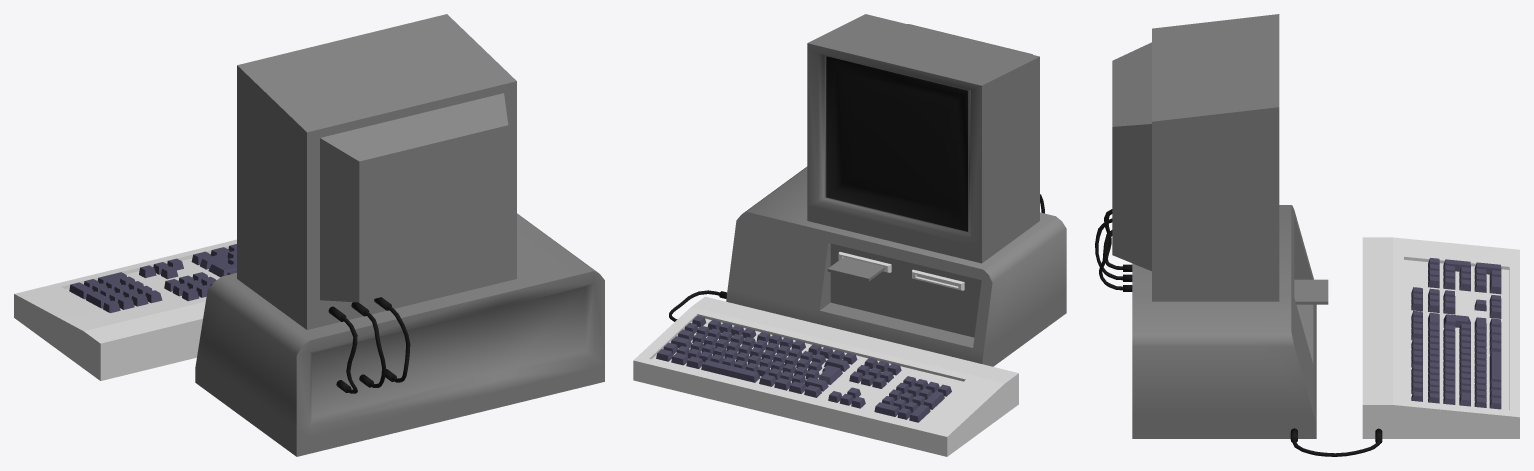
File: scifi_computer2.fbx
3 renders of one model, left to right at view 1: azimuth 30°, elevation 25°; view 2: azimuth 150°, elevation 25°; view 3: azimuth 270°, elevation 25°, orthographic. The views are drawn at different scales.
Visible parts, largest first — view 1: scifi_computer; view 2: scifi_computer; view 3: scifi_computer.
Boxes of the visible parts, x1,y1,x2,y2 form: scifi_computer: (14,14,604,456); scifi_computer: (633,14,1066,456); scifi_computer: (1095,14,1519,456).
Size of the model in its own units: 484 by 357 by 461.
